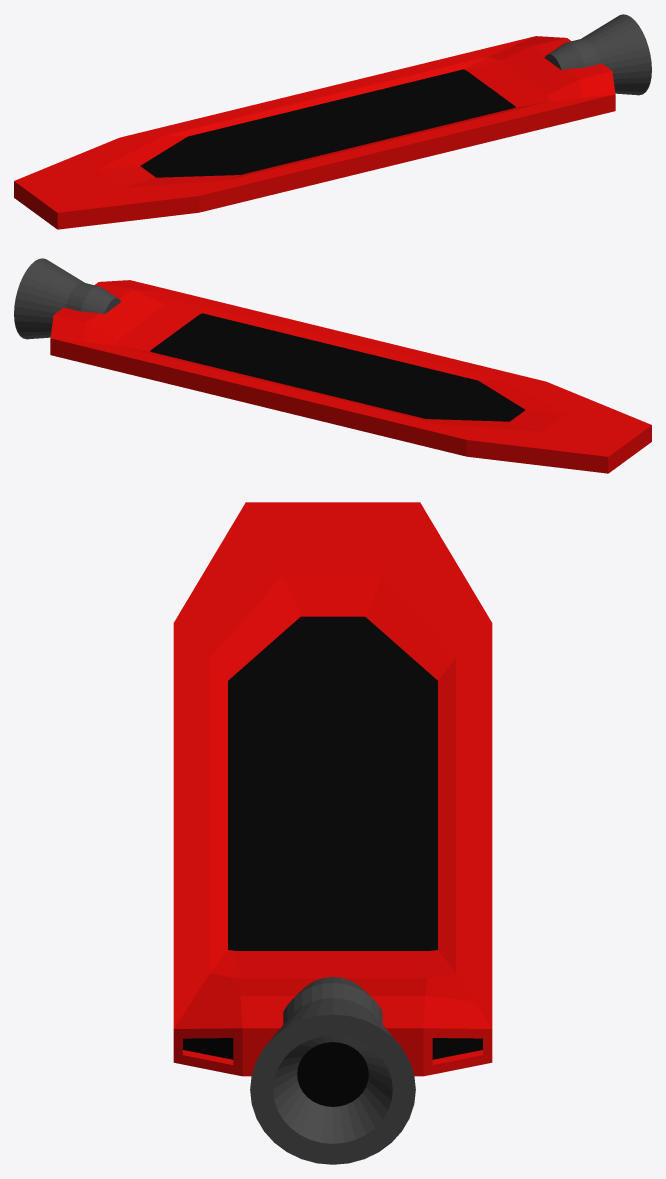
3 views of the same model, one above another, from view 1: azimuth 30°, elevation 25°; view 2: azimuth 150°, elevation 25°; view 3: azimuth 270°, elevation 25° (orthographic). The views are drawn at different scales.
Parts seen in each view (by area): view 1: Hoverboard 11; view 2: Hoverboard 11; view 3: Hoverboard 11.
Boxes of the visible parts, bbox=[...] form: Hoverboard 11: bbox=[14, 14, 651, 229]; Hoverboard 11: bbox=[14, 258, 651, 473]; Hoverboard 11: bbox=[173, 502, 492, 1164].
Size of what is drawn, in the model's own units: 864 by 104 by 200.
